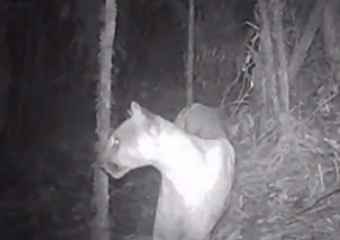OncaParda: (93, 99, 237, 237)
